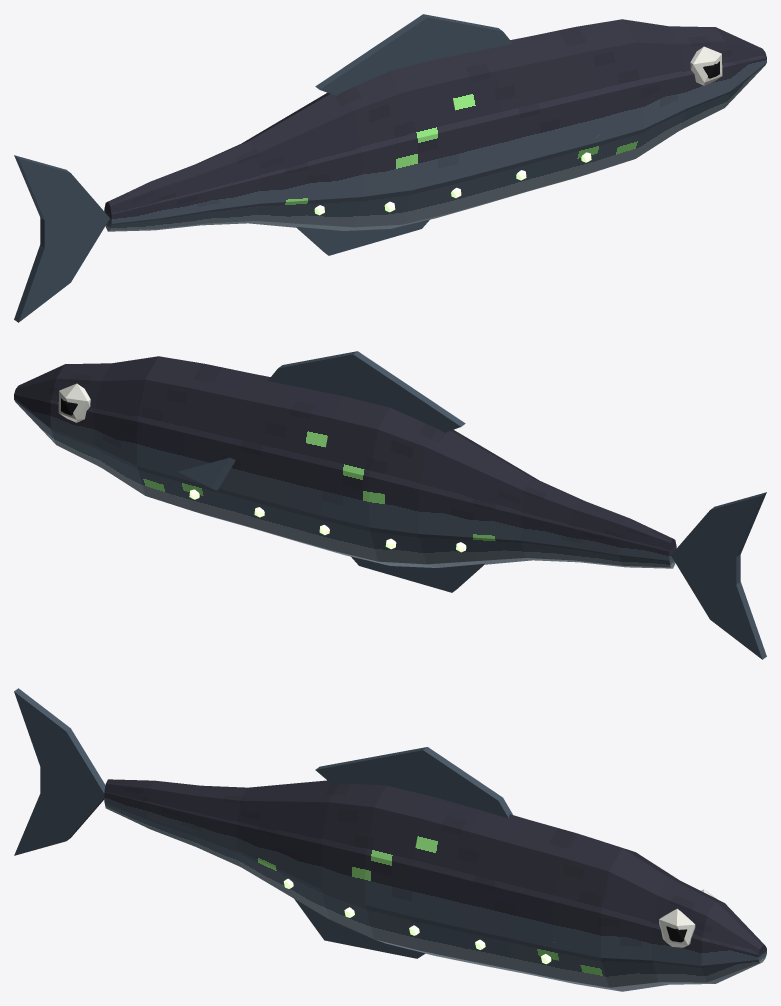
The model's file is barreleye.glb.
3 renders of one model, top to bottom at view 1: azimuth 30°, elevation 25°; view 2: azimuth 150°, elevation 25°; view 3: azimuth 330°, elevation 25°, orthographic.
Visible parts, largest first — view 1: fish_barreleye; view 2: fish_barreleye; view 3: fish_barreleye.
Part boxes in pixels (<box>): fish_barreleye: <box>14,14,766,322</box>; fish_barreleye: <box>14,351,766,659</box>; fish_barreleye: <box>14,688,766,991</box>.
Size of the model in its own units: 1.14 by 0.3129 by 0.1504.
5 materials, 1 textured.
